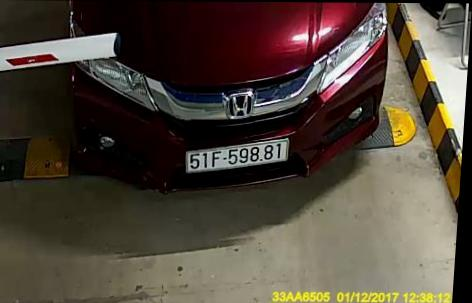License_Plate: (179, 137, 293, 173)
